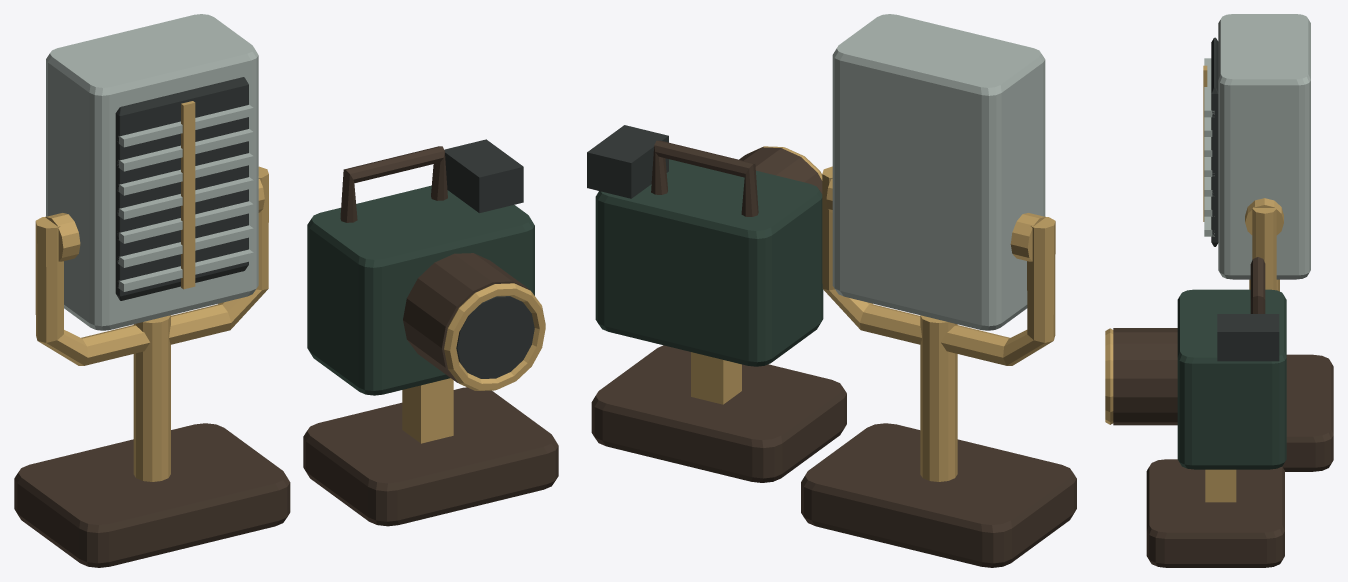
Rendered from 12_Ungseong_Broadcast.fbx.
3 renders of one model, left to right at view 1: azimuth 30°, elevation 25°; view 2: azimuth 150°, elevation 25°; view 3: azimuth 270°, elevation 25°, orthographic. The views are drawn at different scales.
Parts seen in each view (by area): view 1: 12_Ungseong_Broadcast__Microphone, 12_Ungseong_Broadcast__Camera; view 2: 12_Ungseong_Broadcast__Microphone, 12_Ungseong_Broadcast__Camera; view 3: 12_Ungseong_Broadcast__Camera, 12_Ungseong_Broadcast__Microphone.
Boxes of the visible parts, left/top/right/bottom form: 12_Ungseong_Broadcast__Microphone: left=14, top=14, right=290, bottom=567; 12_Ungseong_Broadcast__Camera: left=303, top=139, right=558, bottom=526; 12_Ungseong_Broadcast__Microphone: left=801, top=14, right=1076, bottom=567; 12_Ungseong_Broadcast__Camera: left=587, top=125, right=846, bottom=482; 12_Ungseong_Broadcast__Camera: left=1105, top=257, right=1286, bottom=567; 12_Ungseong_Broadcast__Microphone: left=1203, top=14, right=1333, bottom=471.
Bounding box in the file's own units: 269 × 261 × 141.
2 materials, 2 textured.
